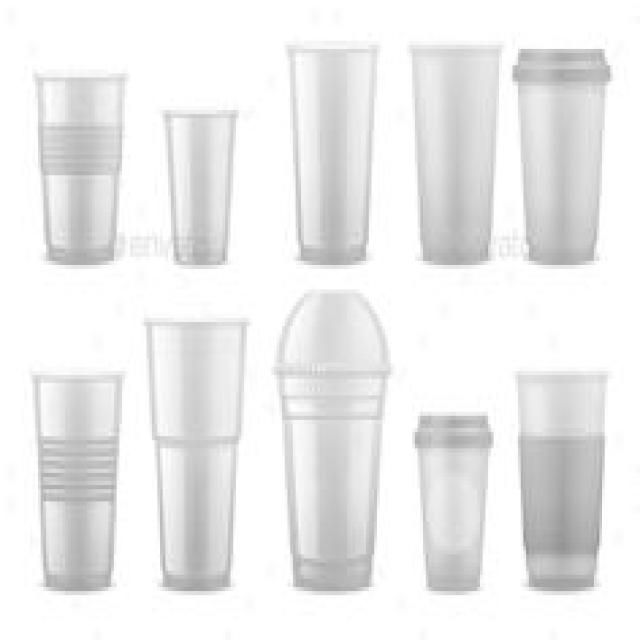bottle: (149, 321, 246, 588), (280, 376, 385, 588), (412, 47, 500, 263), (289, 47, 376, 263), (518, 374, 606, 587), (36, 376, 121, 588), (38, 75, 125, 263), (519, 81, 604, 263), (415, 415, 492, 589), (165, 111, 236, 263)
